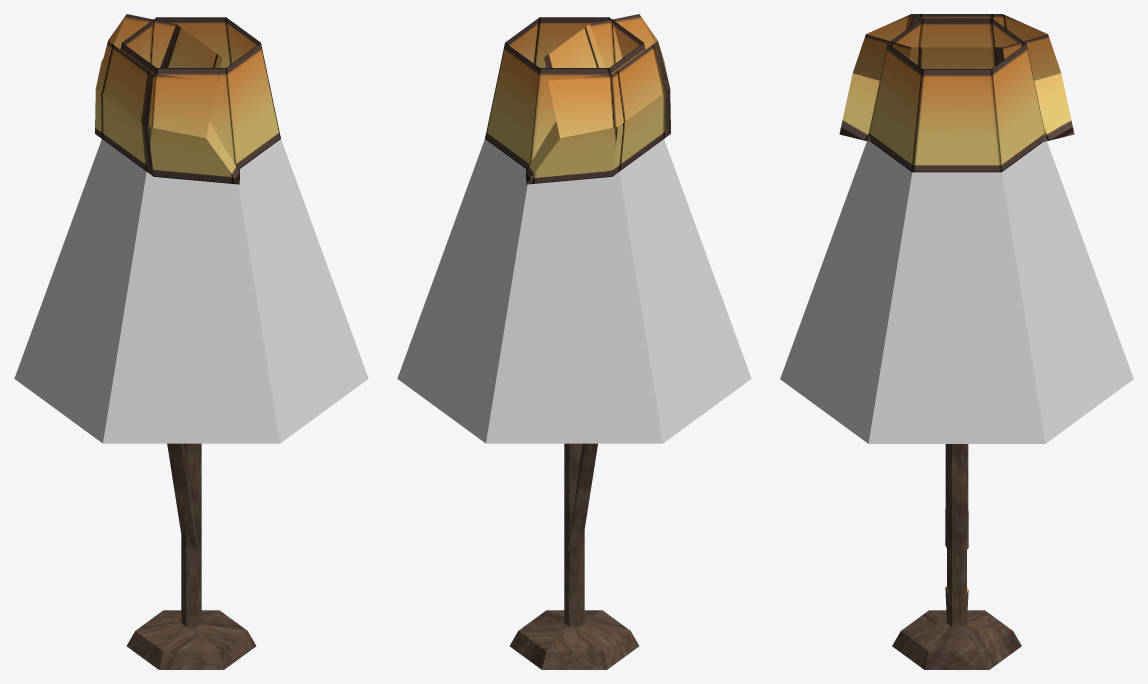
Rendered from FloorLamp.fbx.
The picture shows the model from 3 angles, left to right: view 1: azimuth 30°, elevation 25°; view 2: azimuth 150°, elevation 25°; view 3: azimuth 270°, elevation 25°; orthographic projection.
Visible parts, largest first — view 1: LampLight.001, FloorLamp, FloorLampBroken2, FloorLampBroken3; view 2: LampLight.001, FloorLamp, FloorLampBroken2, FloorLampBroken3; view 3: LampLight.001, FloorLamp, FloorLampBroken2.
Boxes of the visible parts, x1,y1,x2,y2 form: LampLight.001: (14, 139, 368, 443); FloorLamp: (120, 17, 280, 669); FloorLampBroken2: (95, 14, 239, 184); FloorLampBroken3: (167, 443, 200, 552); LampLight.001: (397, 139, 751, 443); FloorLamp: (485, 17, 645, 669); FloorLampBroken2: (526, 14, 670, 184); FloorLampBroken3: (566, 443, 597, 552); LampLight.001: (780, 141, 1133, 443); FloorLamp: (869, 18, 1044, 669); FloorLampBroken2: (839, 14, 1074, 142).
Bounding box in the file's own units: 75.36 × 164 × 87.02.
